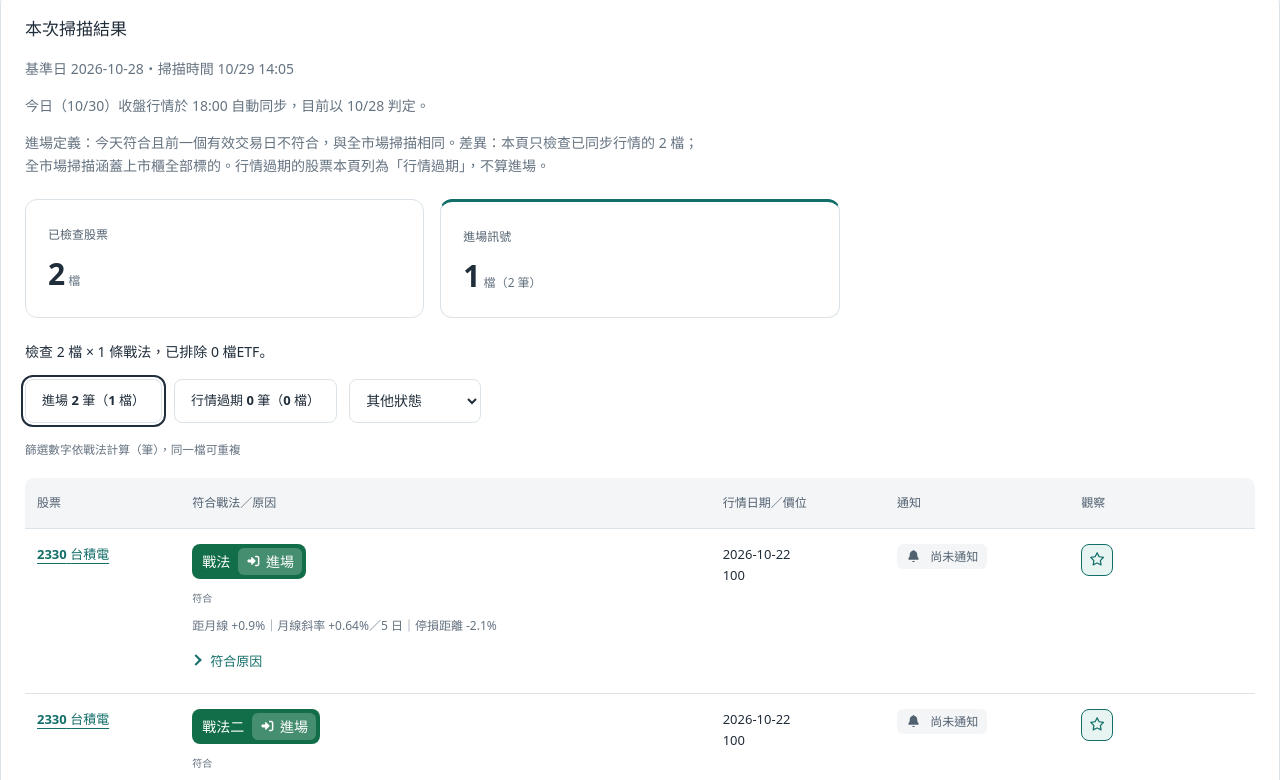
Test: 快篩筆數與檔數一致，其他狀態用選單，顯示共用指標，警示不讀後端欄位
(page scrolled)
Expected: the button "進場 2 筆（1 檔）" is shown, x1=25 y1=379 x2=162 y2=423
Expected: the button "行情過期 0 筆（0 檔）" is shown, x1=174 y1=379 x2=337 y2=423
Select "續抱 1 筆" in the dropdown named "其他狀態". click: (415, 401)
box: x1=349 y1=379 x2=481 y2=423
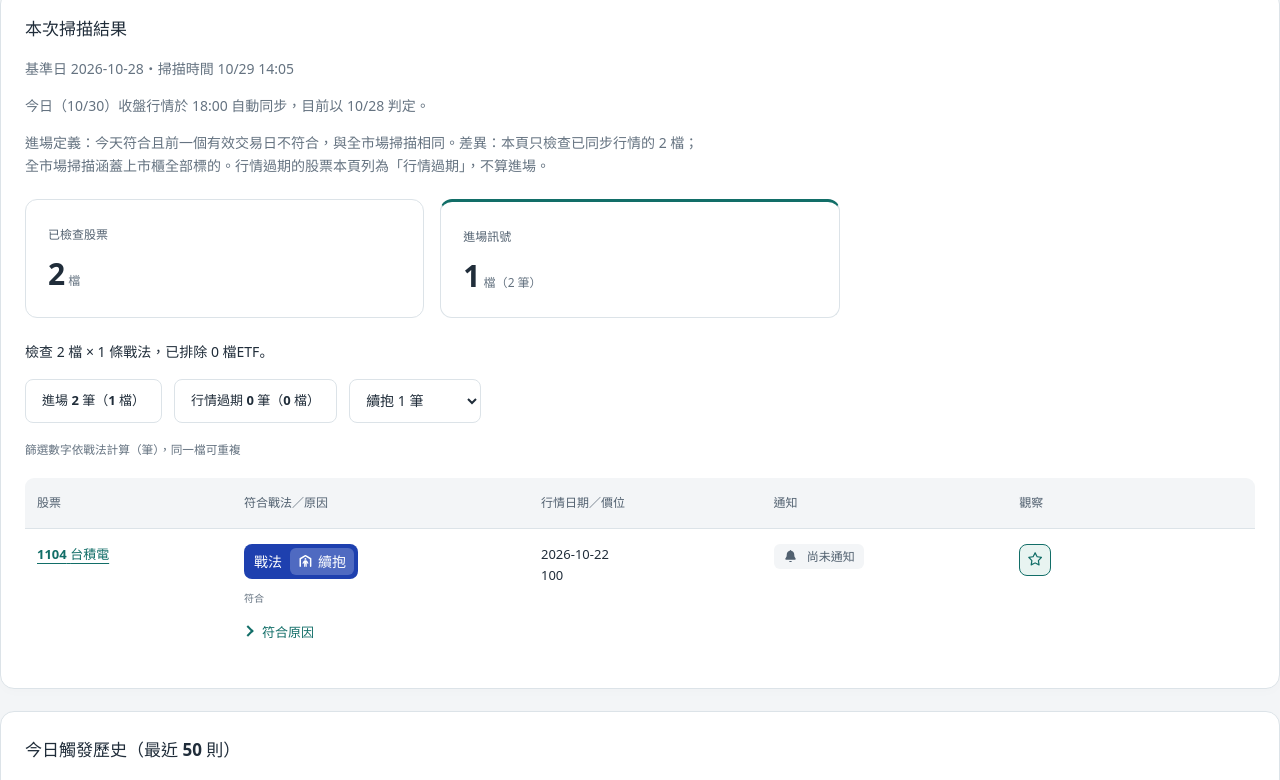
Expected: the link "1104 台積電" is shown, x1=37 y1=544 x2=109 y2=562
Expected: the link "2330" is gone
